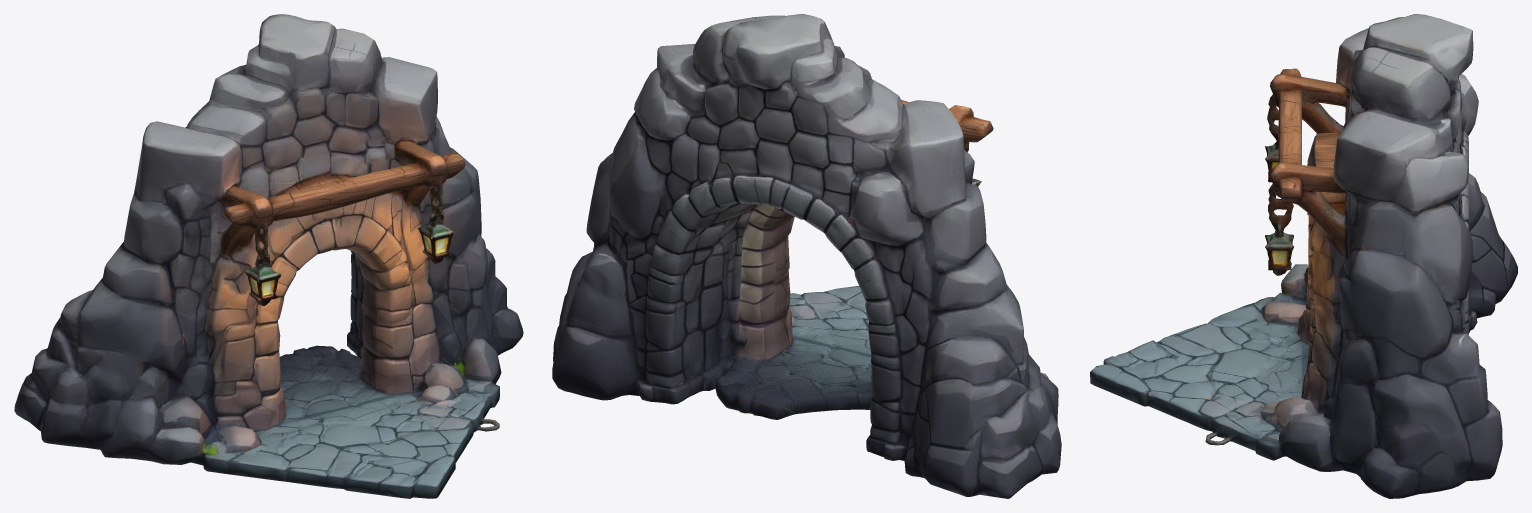
Rendered from tunnel_entrance.glb.
The picture shows the model from 3 angles, left to right: view 1: azimuth 30°, elevation 25°; view 2: azimuth 150°, elevation 25°; view 3: azimuth 270°, elevation 25°; orthographic projection. The views are drawn at different scales.
Parts seen in each view (by area): view 1: Mesh_0; view 2: Mesh_0; view 3: Mesh_0.
Boxes of the visible parts, x1,y1,x2,y2 form: Mesh_0: (14, 14, 523, 498); Mesh_0: (552, 14, 1061, 498); Mesh_0: (1090, 14, 1517, 498).
Bounding box in the file's own units: 1.91 × 1.35 × 1.44.
Materials: 1 (1 with a texture image).
